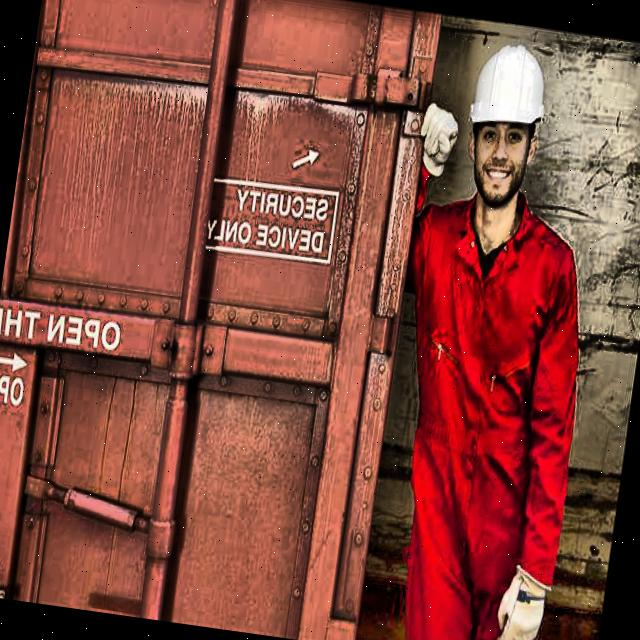helmet: (434, 23, 570, 239)
